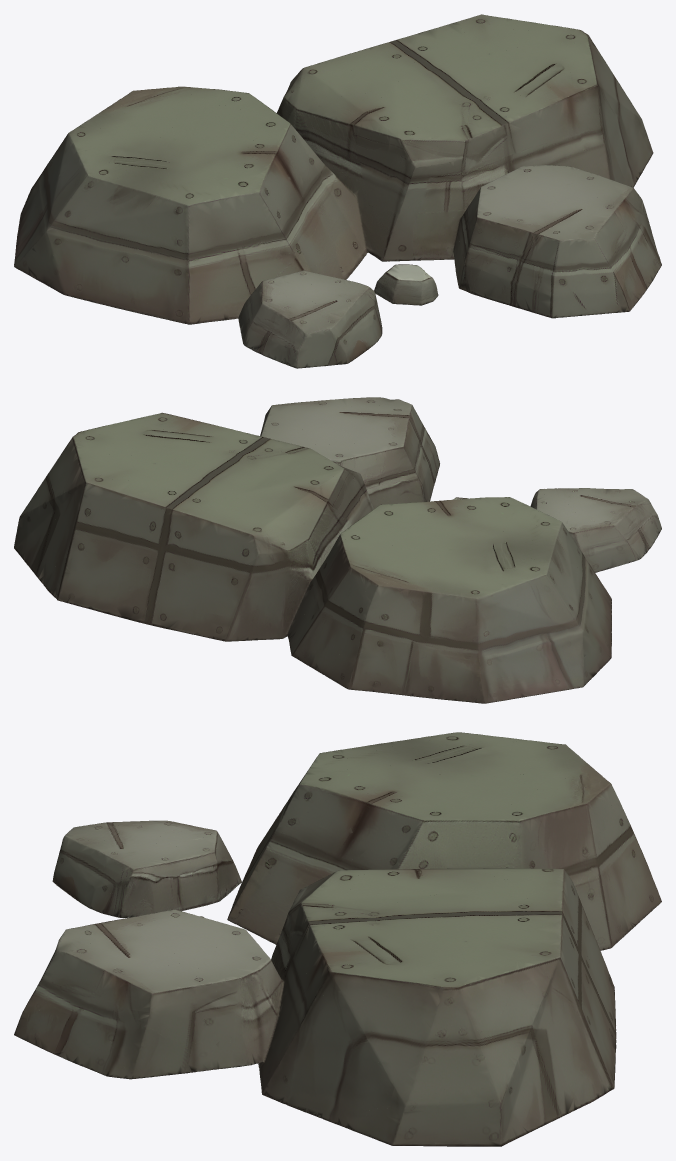
File: prop_rocks_small.glb
The picture shows the model from 3 angles, top to bottom: view 1: azimuth 30°, elevation 25°; view 2: azimuth 150°, elevation 25°; view 3: azimuth 270°, elevation 25°; orthographic projection. The views are drawn at different scales.
Visible parts, largest first — view 1: Mesh_0; view 2: Mesh_0; view 3: Mesh_0.
Boxes of the visible parts, x1,y1,x2,y2 form: Mesh_0: [14, 14, 661, 368]; Mesh_0: [14, 397, 661, 703]; Mesh_0: [14, 732, 661, 1146].
Bounding box in the file's own units: 2 × 0.3755 × 1.6.
Materials: 1 (1 with a texture image).
